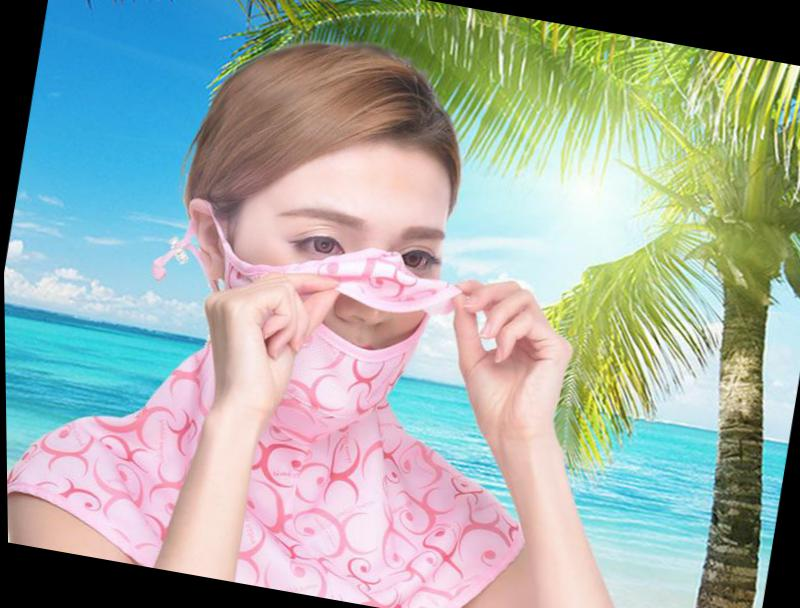WRONG: (217, 191, 457, 430)
